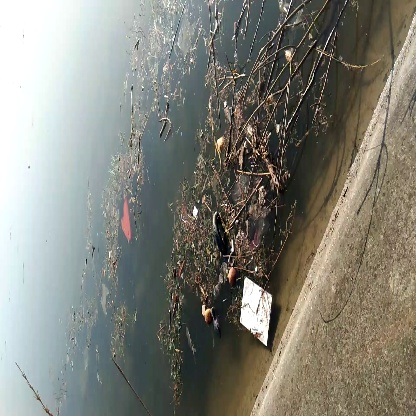plastic-garbage: (229, 275, 288, 353)
